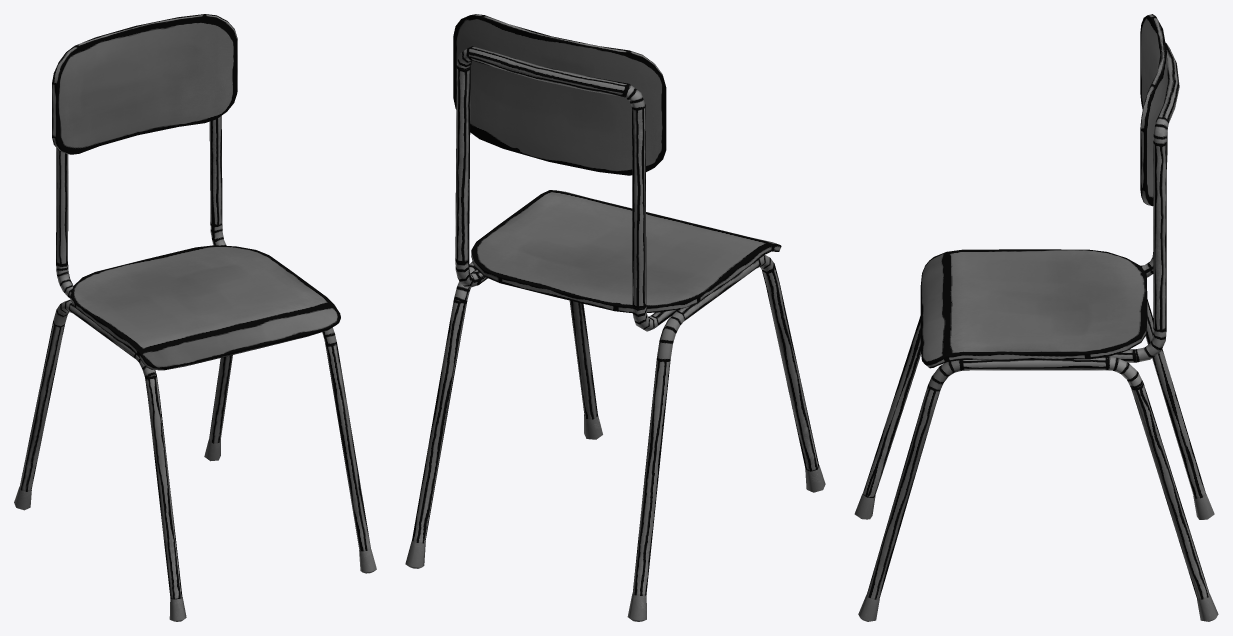
File: Kursi.fbx
The picture shows the model from 3 angles, left to right: view 1: azimuth 30°, elevation 25°; view 2: azimuth 150°, elevation 25°; view 3: azimuth 270°, elevation 25°; orthographic projection. The views are drawn at different scales.
Visible parts, largest first — view 1: ChairSeat_low, ChairTop_low, Chair_Frame1_low, Chair_Frame2_low, Chair_Frame_low; view 2: ChairSeat_low, ChairTop_low, Chair_Frame_low, Chair_Frame1_low, Chair_Frame2_low; view 3: ChairSeat_low, Chair_Frame2_low, Chair_Frame_low, Chair_Frame1_low, ChairTop_low.
Boxes of the visible parts, x1,y1,x2,y2 form: ChairSeat_low: (70,245,340,370); ChairTop_low: (52,14,237,154); Chair_Frame1_low: (19,299,182,599); Chair_Frame2_low: (209,327,370,551); Chair_Frame_low: (56,116,226,298); ChairSeat_low: (471,190,781,313); ChairTop_low: (453,14,666,175); Chair_Frame_low: (455,46,678,331); Chair_Frame1_low: (632,255,818,595); Chair_Frame2_low: (412,261,597,543); ChairSeat_low: (920,249,1147,368); Chair_Frame2_low: (866,357,1209,599); Chair_Frame_low: (1109,42,1179,362); Chair_Frame1_low: (862,299,1206,498); ChairTop_low: (1140,14,1167,206).
Bounding box in the file's own units: 37.12 × 80.89 × 51.5.
Materials: 1 (1 with a texture image).
